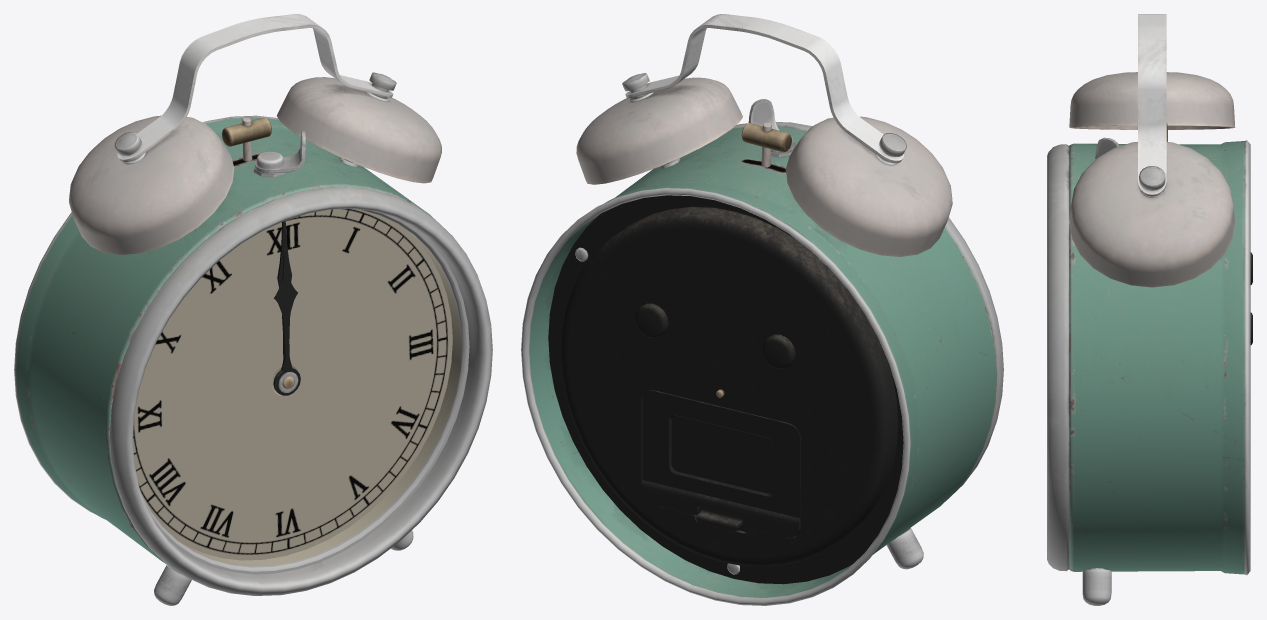
File: alarm_clock.fbx
The picture shows the model from 3 angles, left to right: view 1: azimuth 30°, elevation 25°; view 2: azimuth 150°, elevation 25°; view 3: azimuth 270°, elevation 25°; orthographic projection. The views are drawn at different scales.
Parts seen in each view (by area): view 1: clock, hour; view 2: clock; view 3: clock.
Part boxes in pixels (<box>): clock: <box>14,14,492,605</box>; hour: <box>274,249,300,395</box>; clock: <box>521,14,1003,605</box>; clock: <box>1047,14,1252,605</box>.
Size of the model in its own units: 13.17 by 17.42 by 6.67.
